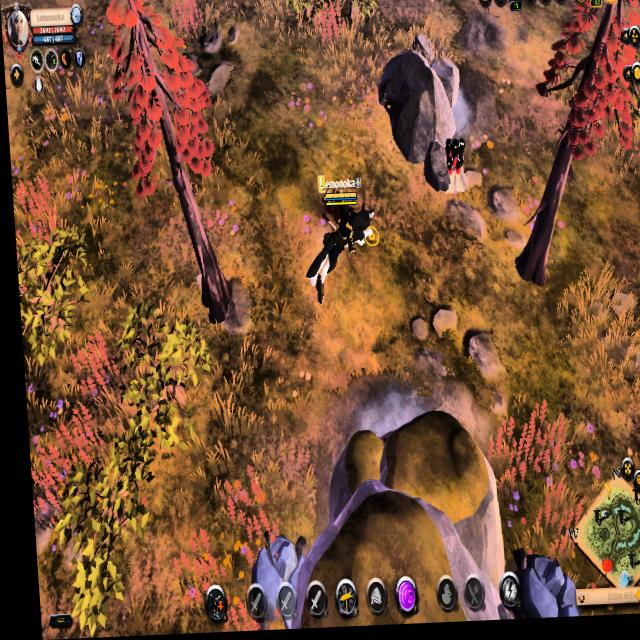ore tier 5: (437, 136, 468, 204)
wood tier 5: (102, 0, 217, 203), (531, 10, 640, 174)
